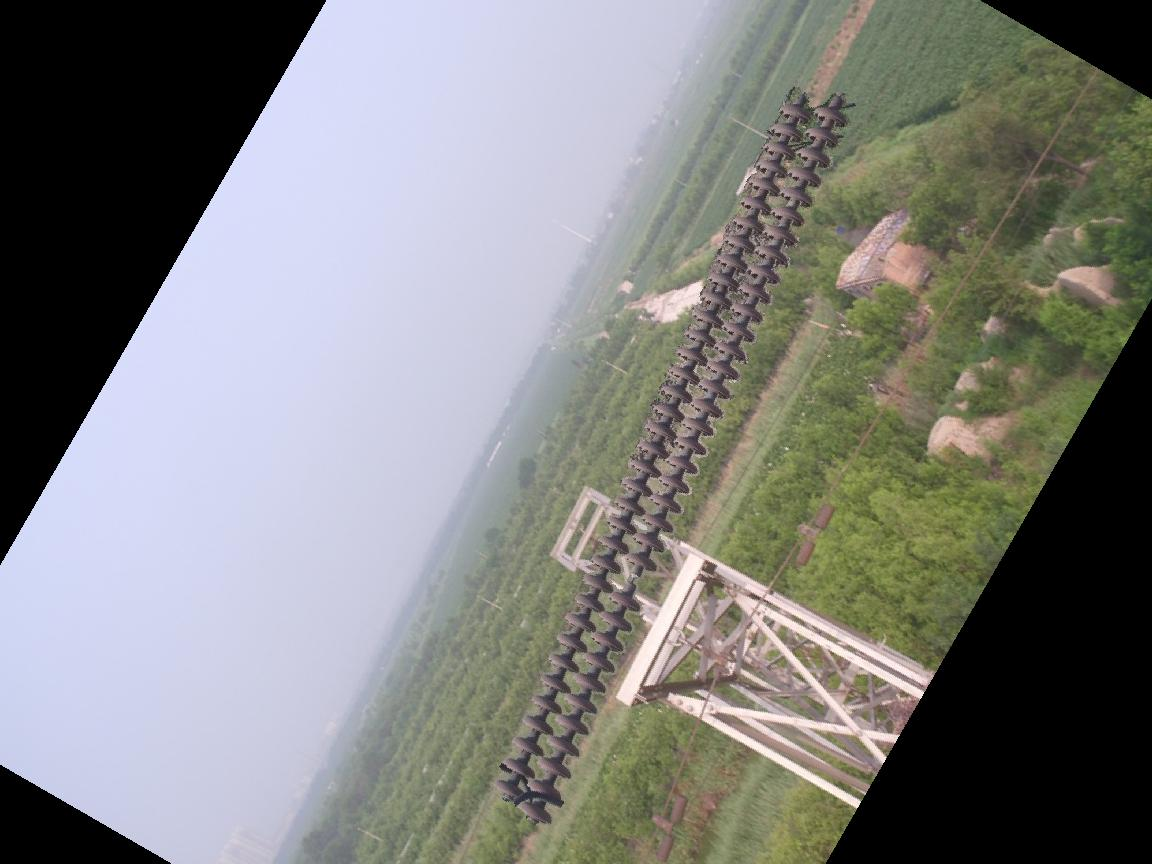insulator: (489, 91, 857, 826)
insulator_stringdrop: (605, 548, 659, 616)
